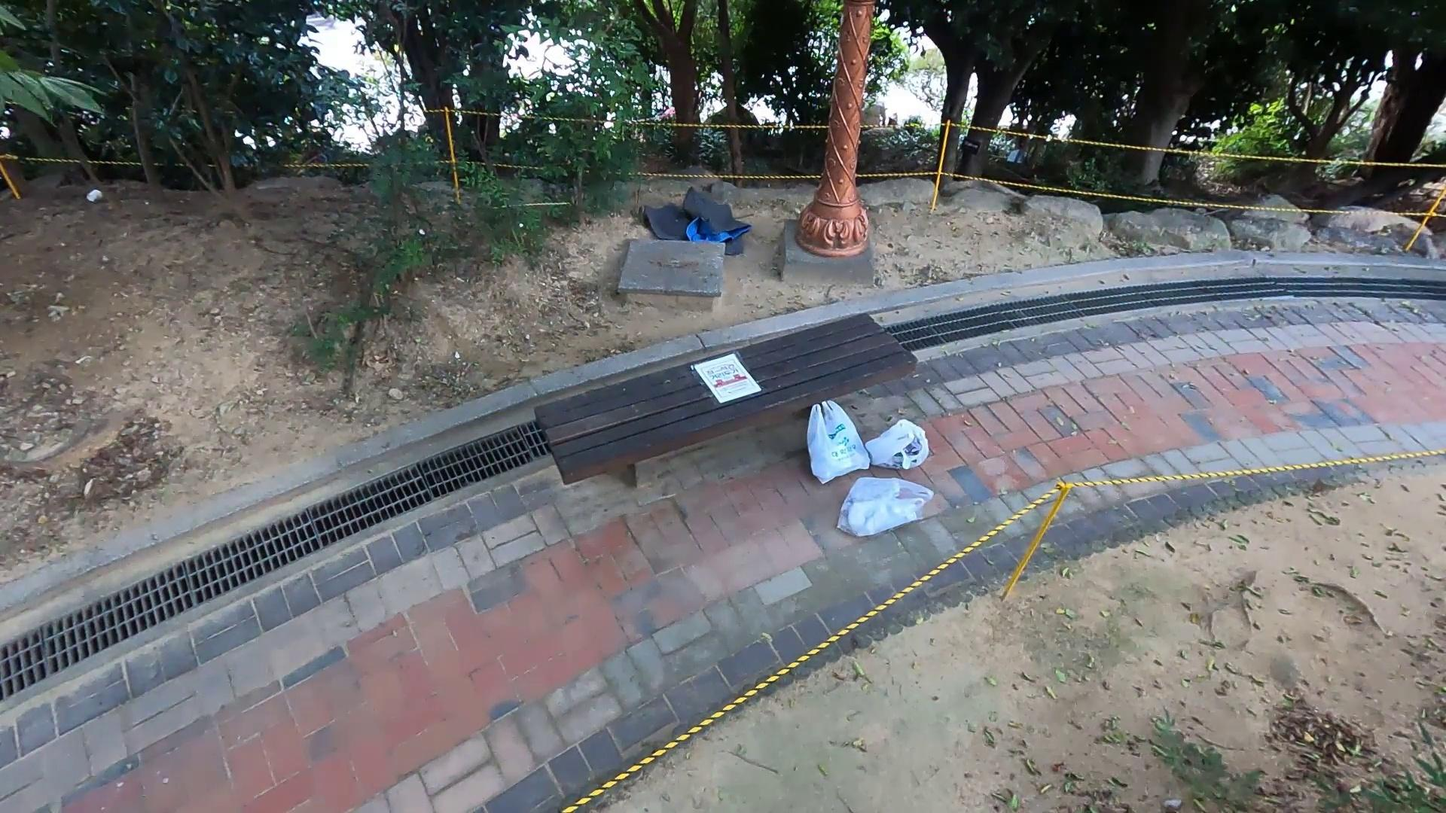trash: (636, 184, 754, 259), (828, 467, 938, 541), (798, 401, 877, 483), (863, 412, 936, 477)
